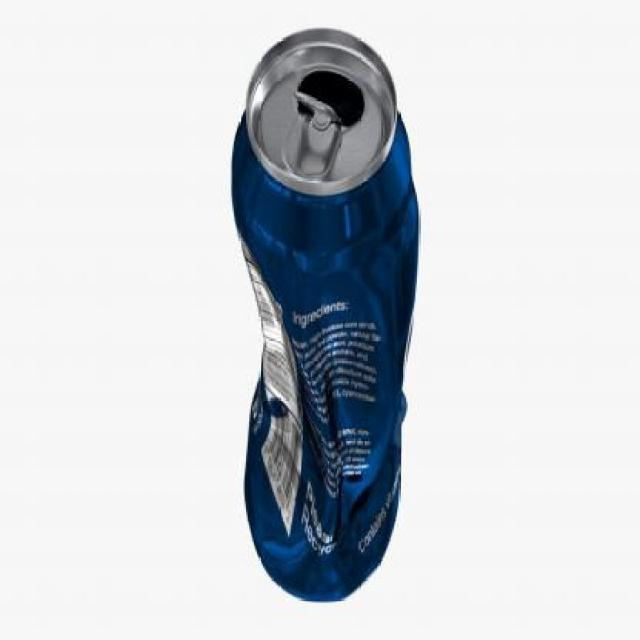can: (228, 14, 426, 634)
